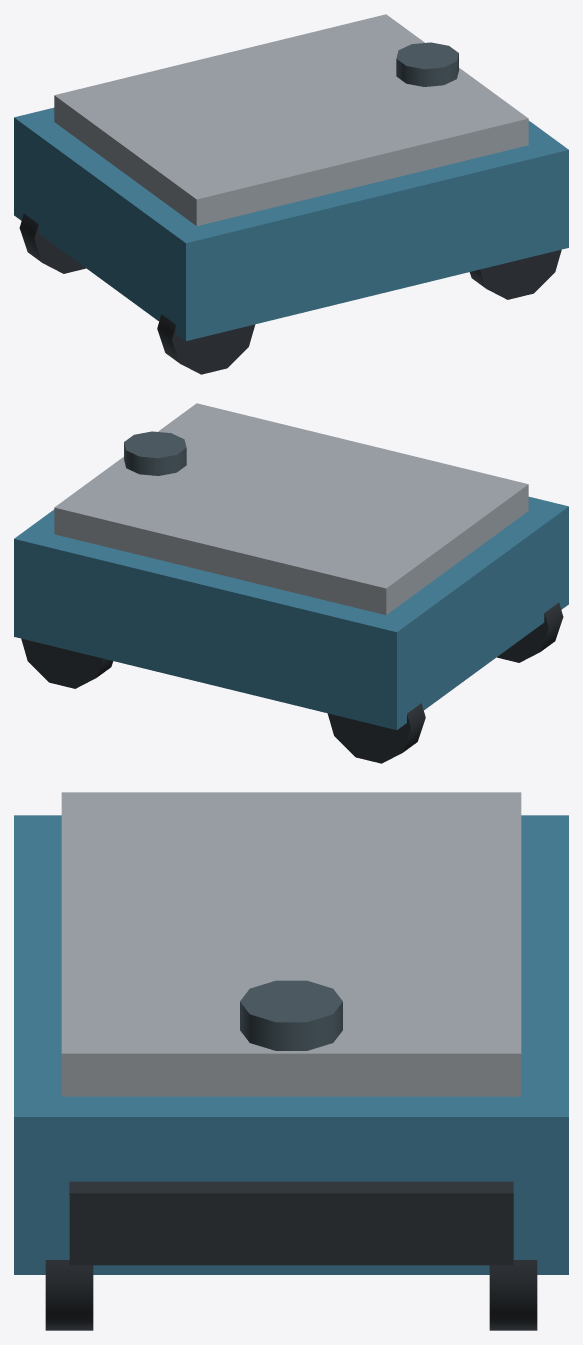
3 renders of one model, top to bottom at view 1: azimuth 30°, elevation 25°; view 2: azimuth 150°, elevation 25°; view 3: azimuth 270°, elevation 25°, orthographic. The views are drawn at different scales.
Parts seen in each view (by area): view 1: chassis, loaddeck, wheel01, wheel11, scanner, wheel00; view 2: chassis, loaddeck, wheel00, wheel10, scanner, wheel01; view 3: loaddeck, chassis, bumper, scanner, wheel10, wheel11.
Boxes of the visible parts, x1,y1,x2,y2 form: chassis: [14, 107, 568, 340]; loaddeck: [54, 14, 528, 225]; wheel01: [157, 314, 255, 374]; wheel11: [469, 249, 561, 299]; scanner: [396, 42, 458, 86]; wheel00: [19, 213, 85, 273]; chassis: [14, 496, 568, 729]; loaddeck: [54, 403, 528, 614]; wheel00: [327, 703, 425, 763]; wheel10: [21, 638, 113, 688]; scanner: [124, 431, 186, 475]; wheel01: [497, 602, 563, 662]; loaddeck: [61, 792, 521, 1096]; chassis: [14, 815, 568, 1274]; bumper: [69, 1181, 513, 1265]; scanner: [240, 980, 342, 1050]; wheel10: [489, 1260, 537, 1330]; wheel11: [45, 1260, 93, 1330].
Bounding box in the file's own units: 0.9455 × 0.4251 × 0.7.
